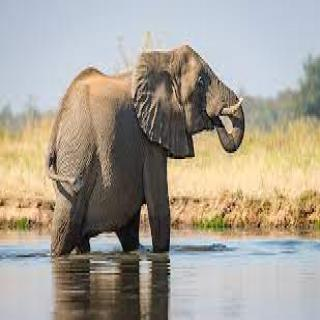Elephant: (42, 43, 252, 269)
